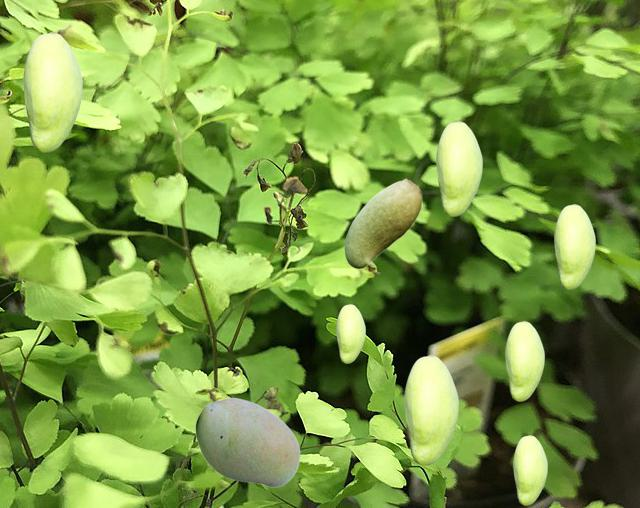green_mango: (195, 397, 299, 486), (23, 32, 81, 151), (344, 178, 421, 267), (404, 355, 457, 464), (436, 121, 481, 215), (554, 204, 594, 288), (505, 321, 543, 400), (513, 435, 546, 504), (336, 304, 364, 362)
